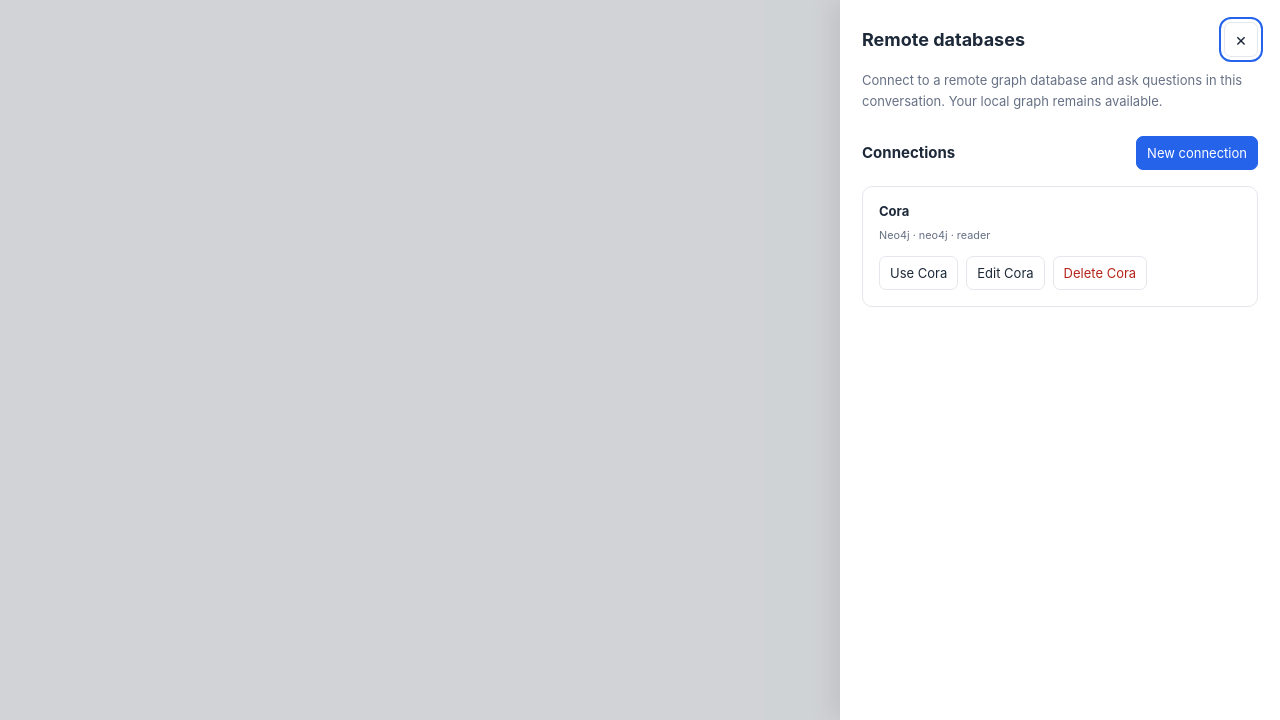
Test: shows a controlled connection failure: REMOTE_GRAPH_AUTH_FAILED
Click the button "Edit Cora". click: [1005, 273]
box: x1=966 y1=256 x2=1045 y2=290
(page scrolled)
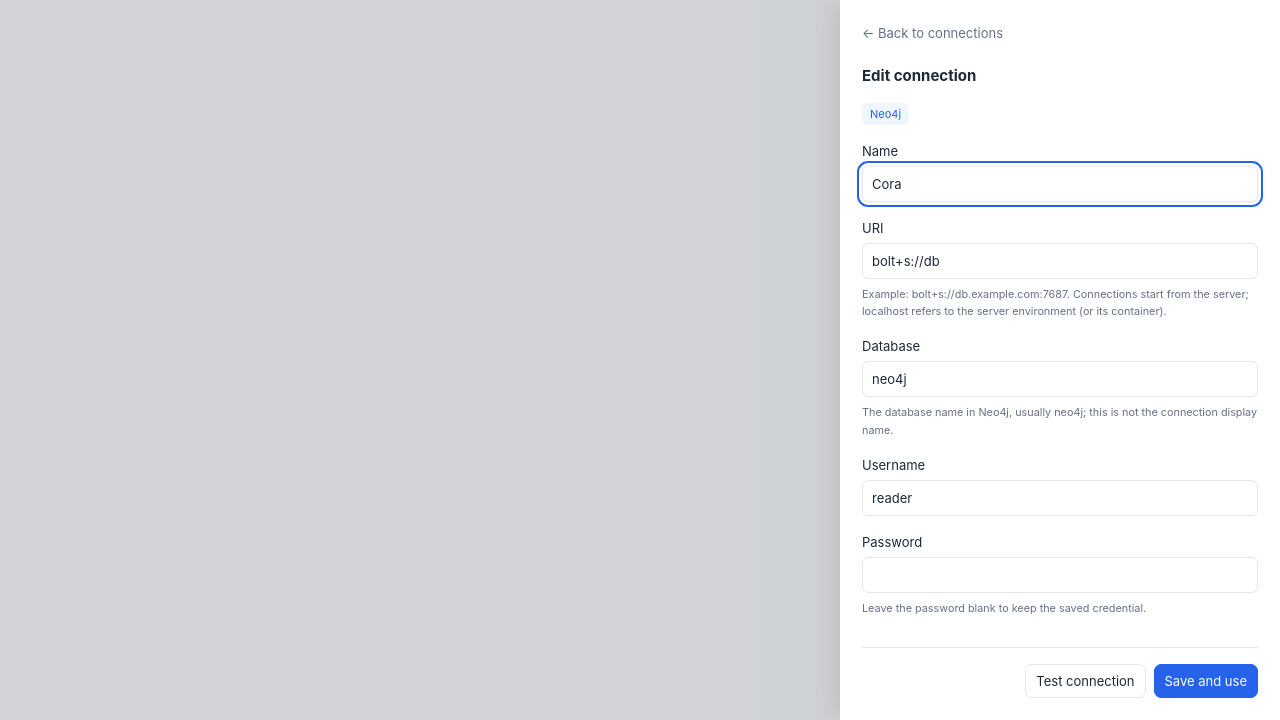
Click the button "Test connection". click: [1085, 681]
box: x1=1025 y1=664 x2=1146 y2=698
(page scrolled)
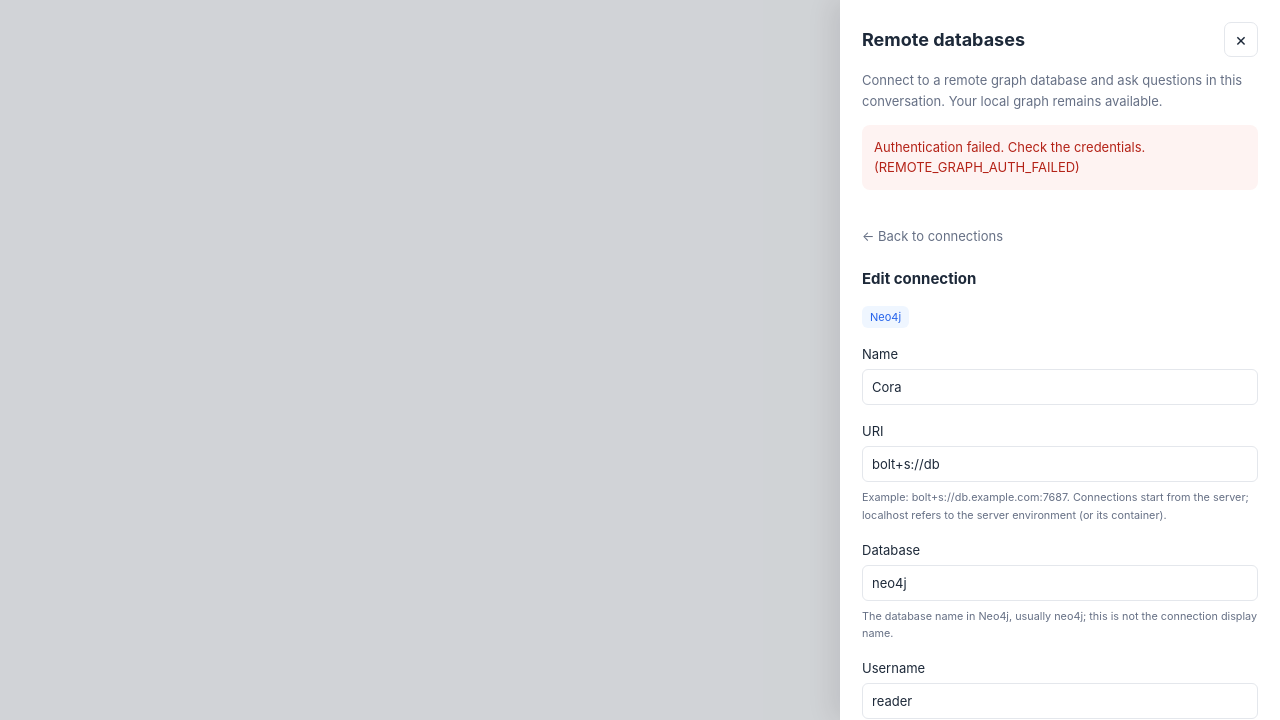
expect the message shows "REMOTE_GRAPH_AUTH_FAILED": met, box x1=874 y1=139 x2=1145 y2=175
